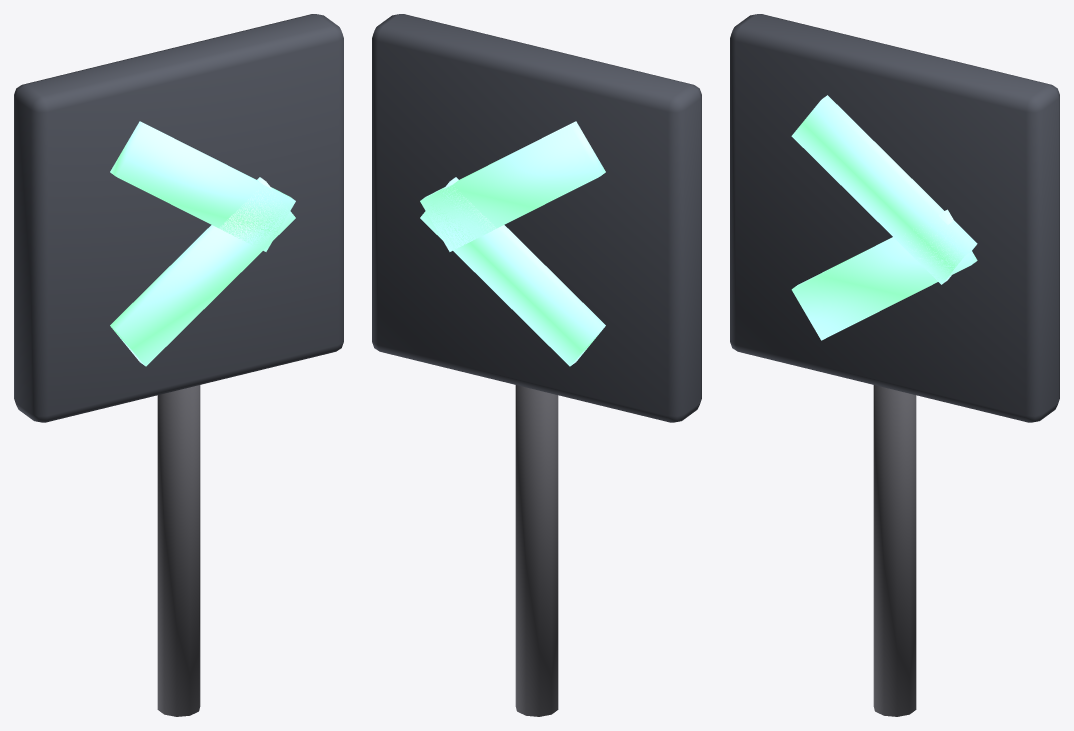
Rendered from prop_chevron_sign.glb.
3 views of the same model, side by side, from view 1: azimuth 30°, elevation 25°; view 2: azimuth 150°, elevation 25°; view 3: azimuth 330°, elevation 25° (orthographic).
Parts seen in each view (by area): view 1: SignPole; view 2: SignPole; view 3: SignPole.
Boxes of the visible parts, bbox=[...] form: SignPole: bbox=[14, 14, 343, 716]; SignPole: bbox=[372, 14, 701, 716]; SignPole: bbox=[730, 14, 1059, 716].
Size of the model in its own units: 2.3 by 4.6 by 0.52.
